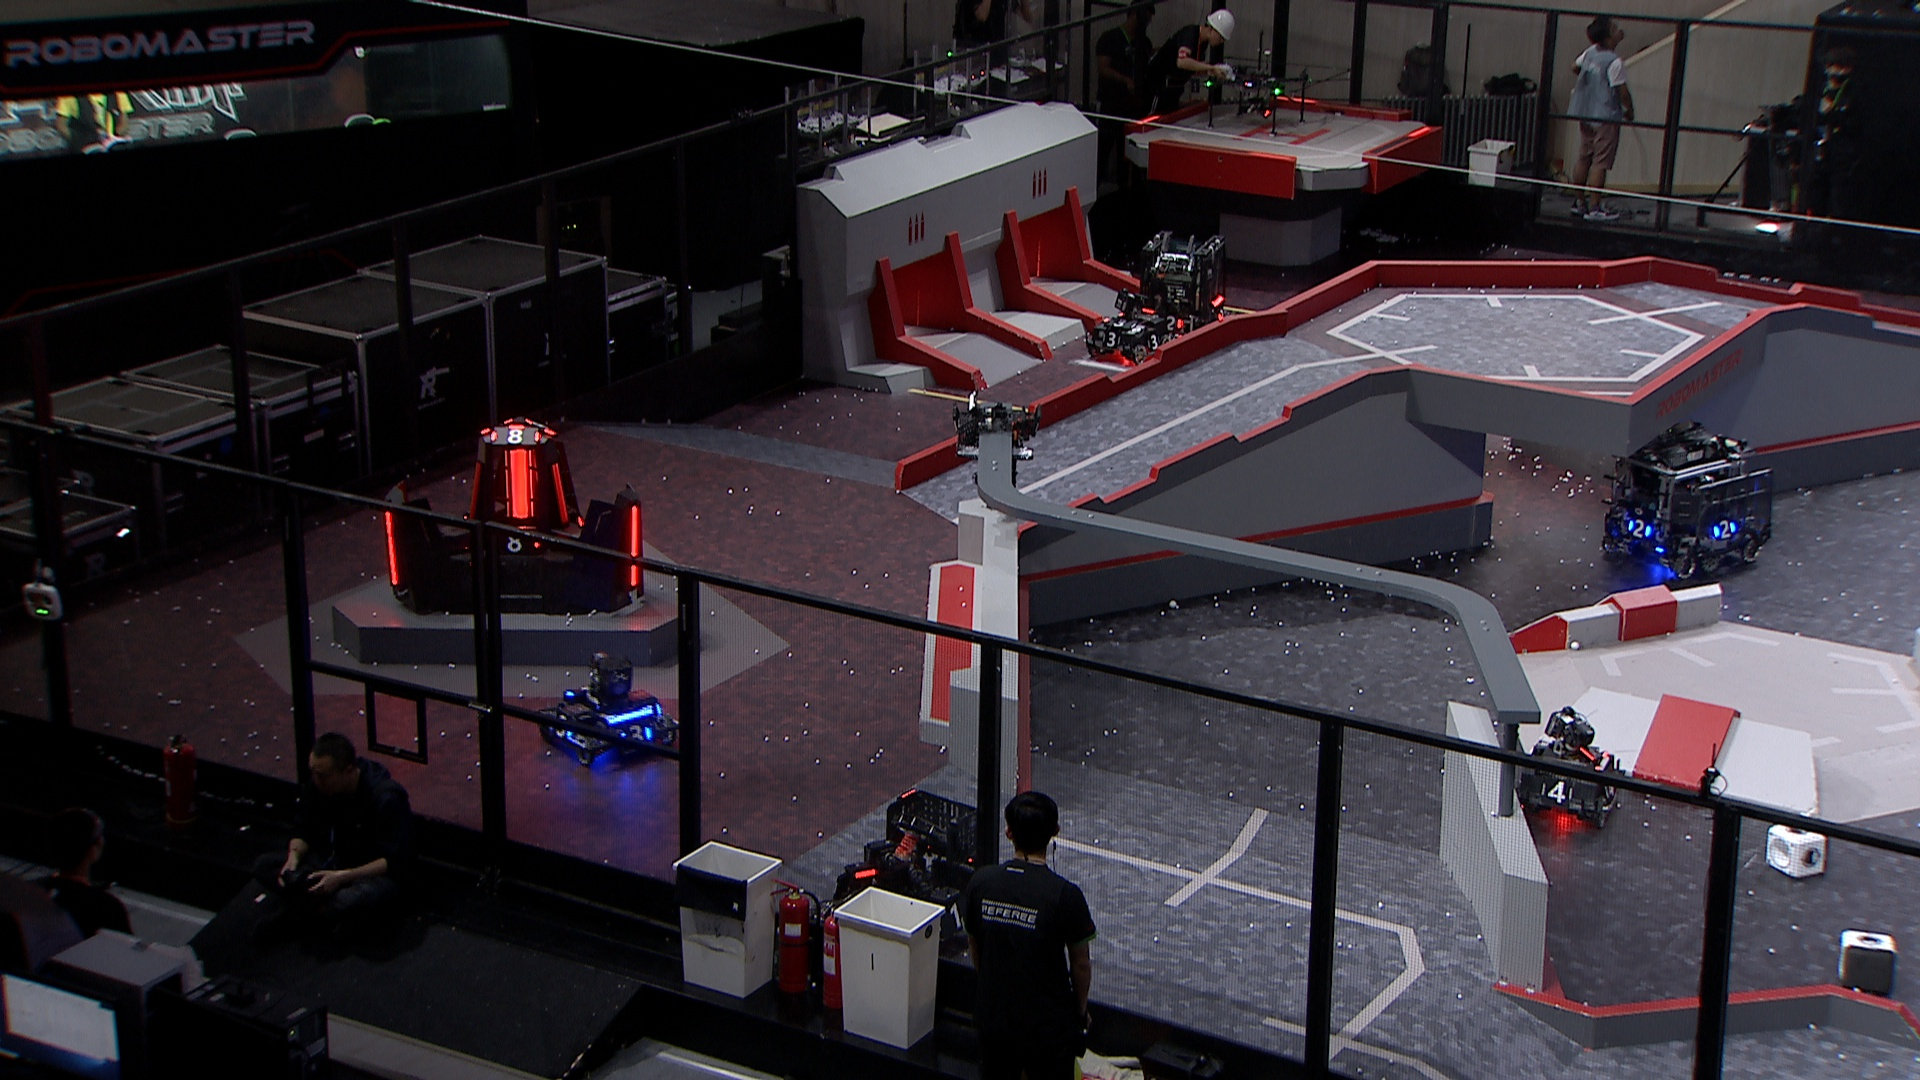armor: (506, 446, 533, 526), (624, 504, 644, 585), (547, 462, 572, 524), (381, 505, 400, 585), (489, 423, 543, 447), (465, 460, 484, 522), (498, 531, 542, 556), (615, 723, 655, 746), (1542, 778, 1575, 804), (545, 709, 575, 737), (945, 899, 967, 932), (560, 680, 595, 699), (1709, 520, 1741, 538), (1160, 311, 1185, 334), (1629, 516, 1650, 541), (1102, 315, 1135, 330), (1098, 328, 1122, 348), (1600, 778, 1619, 799), (1145, 332, 1166, 351)
base: (375, 414, 647, 617)
car: (1594, 419, 1775, 583), (831, 790, 986, 957), (531, 651, 684, 767), (1513, 707, 1627, 829), (1131, 225, 1232, 349), (1083, 287, 1188, 371)
watcher: (949, 392, 1043, 493)
